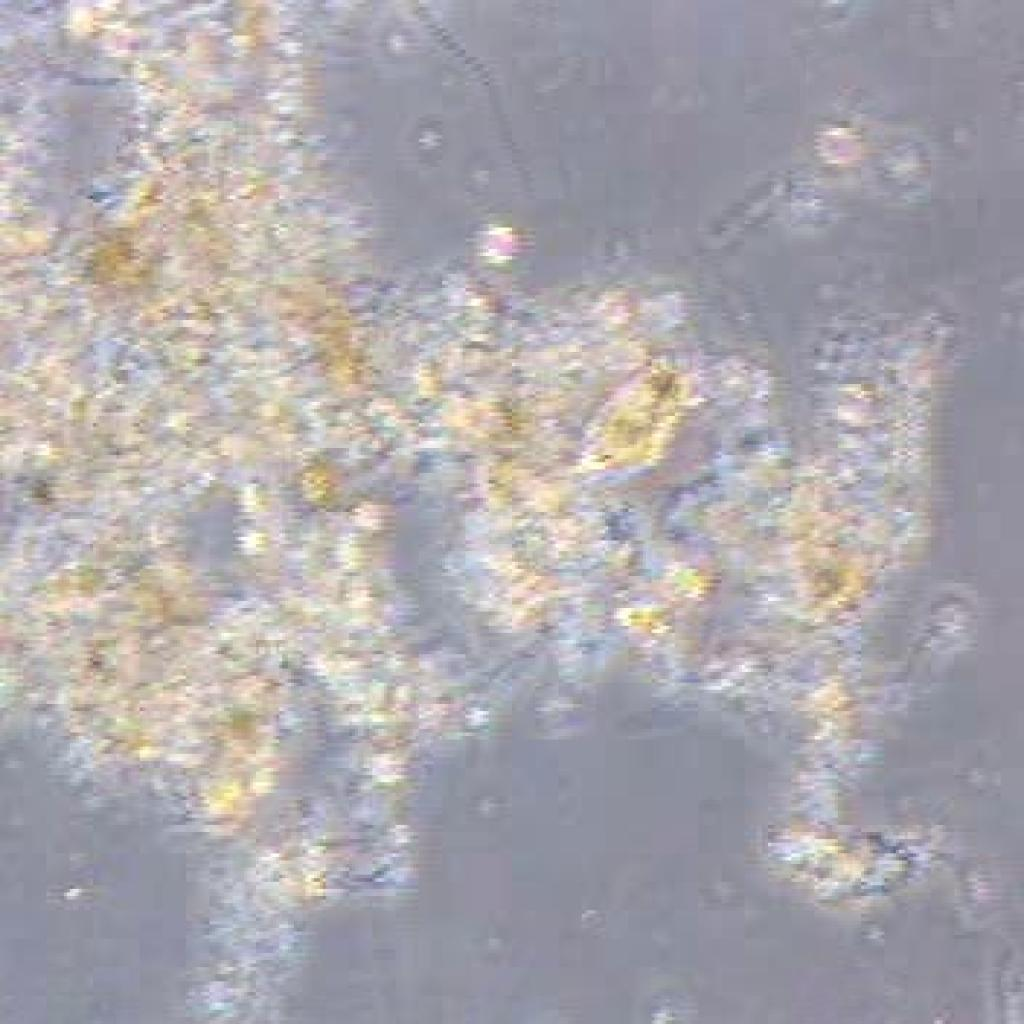Chaetonotus: (558, 368, 686, 485)
